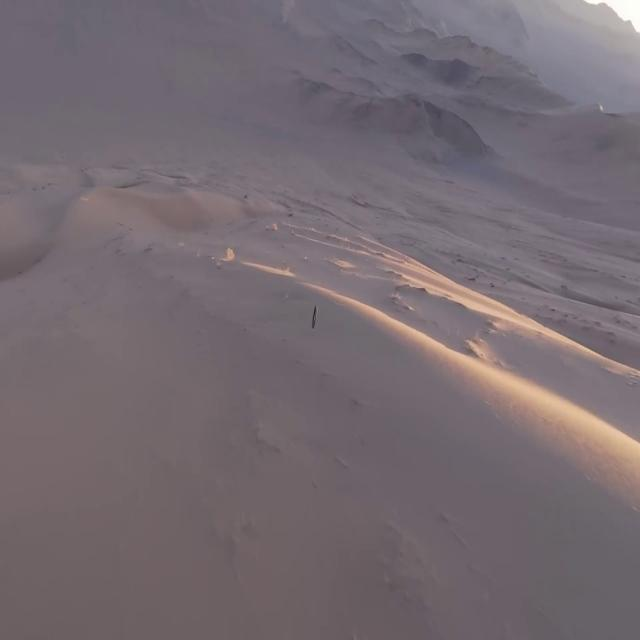Tire: (311, 305, 317, 328)
